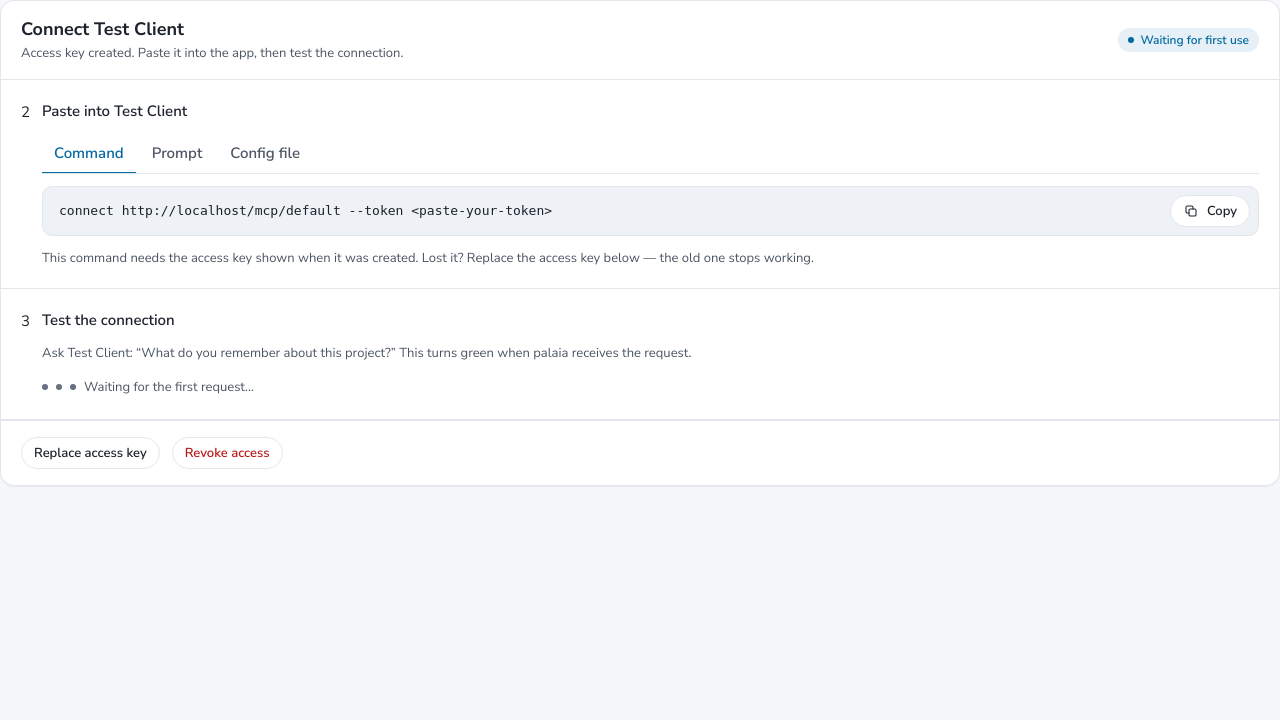
Scenario: revoking and replacing (report §5.5) › revokes every live key of the app after a confirmation, and starts over
Click the button "Revoke access" at (227, 453), box [172,437,283,469]
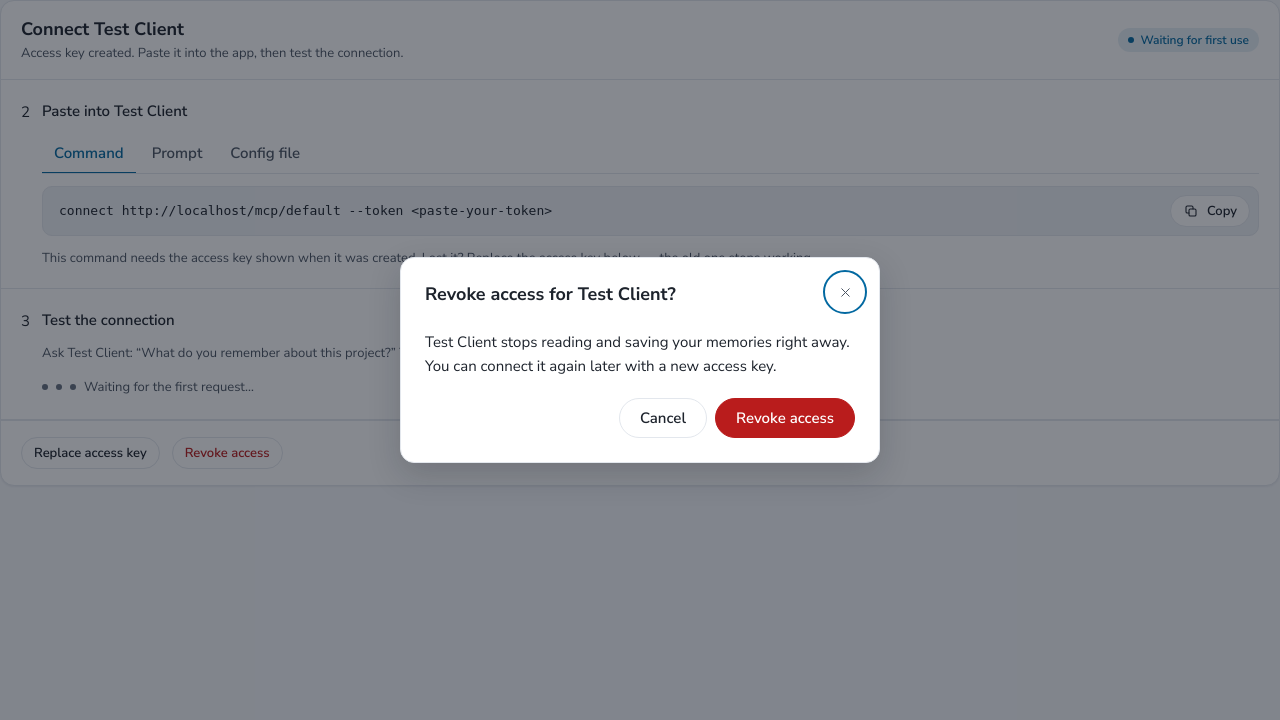
Click the button "Revoke access" at (785, 418), box [715,398,855,438]
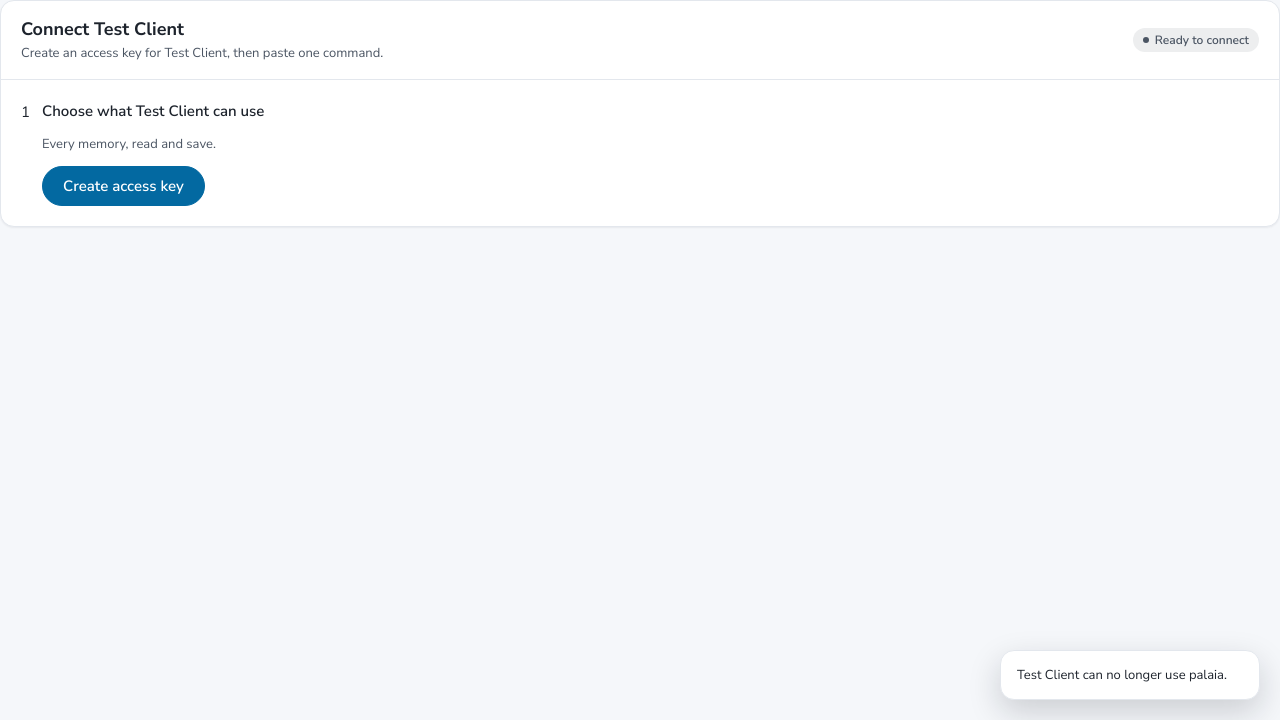
Check: the button "Create access key" is shown, box [42,166,205,206]
